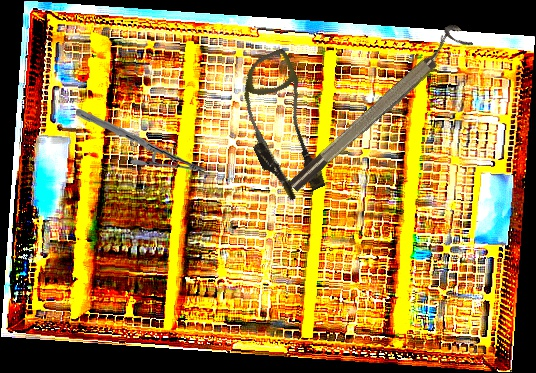Cannula: (220, 47, 343, 206)
Fixation Ring: (279, 20, 474, 196)
Needle Holder: (75, 100, 207, 183)
